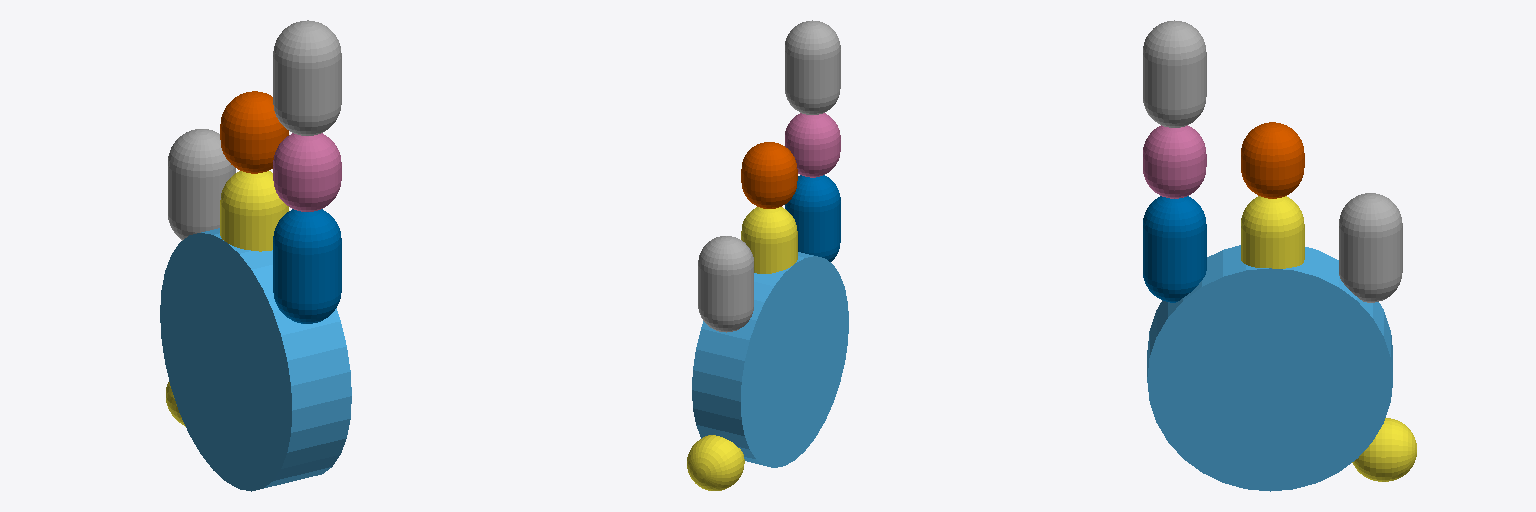
The robot description file, URDF, robot "DexterousHand":
<?xml version="1.0"?>
<robot name="DexterousHand">


    <link name="world"/>
    <joint name="world_to_palm" type="fixed">
        <parent link="world"/>
        <child link="palm"/>
        <origin xyz="0 0 0" rpy="0 0 0"/>
    </joint>
    <link name="palm">
        <inertial>
            <origin xyz="0 0 0.057" rpy="0 0 0"/>
            <mass value="0.30212892864"/>
            <inertia ixx="0.00049080844457568" ixy="0.0" ixz="0.0" iyy="0.00026746366246427523" iyz="0.0" izz="0.00026746366246427523"/>
        </inertial>
        <visual>
            <origin xyz="0 0 0.057" rpy="1.5708 0 1.5708"/>
            <geometry>
                <cylinder radius="0.057" length="0.0296"/>
            </geometry>
            <material name="default"/>
        </visual>
        <collision>
            <origin xyz="0 0 0.057" rpy="1.5708 0 1.5708"/>
            <geometry>
                <cylinder radius="0.057" length="0.0296"/>
            </geometry>
        </collision>
    </link>

    
    <joint name="thumb_joint1" type="revolute">
        <parent link="palm"/>
        <child link="thumb_base"/>
        <origin xyz="0.0029 0.0368 0.0157" rpy="-1.5708 -1.5708 0.0"/>
        <axis xyz="-1 0 0"/>
        <limit lower="-0.349" upper="2.094" effort="1.0" velocity="1.0"/>
    </joint>

    <link name="thumb_base"></link>

    <joint name="thumb_joint2" type="revolute">
        <parent link="thumb_base"/>
        <child link="thumb_proximal"/>
        <origin xyz="0.0 0.0 0.0" rpy="0.0 0.0 0.0"/>
        <axis xyz="0 0 1"/>
        <limit lower="-0.47" upper="2.443" effort="1.0" velocity="1.0"/>
    </joint>

    <link name="thumb_proximal">
        <inertial>
            <origin xyz="0 0 0.01565" rpy="0 0 0"/>
            <mass value="0.021538658803200002"/>
            <inertia ixx="2.9378910096388167e-06" ixy="0.0" ixz="0.0" 
            iyy="2.9378910096388167e-06" iyz="0.0" izz="2.358913912126464e-06"/>
        </inertial>
        <visual>
            <origin xyz="0 0 0.01565" rpy="0 0 0"/>
            <geometry>
                <cylinder radius="0.0148" length="0.0017000000000000001"/>
            </geometry>
            <material name="default"/>
        </visual>
        <visual>
            <origin xyz="0 0 0.0148" rpy="0 0 0"/>
            <geometry>
                <sphere radius="0.0148"/>
            </geometry>
            <material name="default"/>
        </visual>
        <visual>
            <origin xyz="0 0 0.0165" rpy="0 0 0"/>
            <geometry>
                <sphere radius="0.0148"/>
            </geometry>
            <material name="default"/>
        </visual>
        <collision>
            <origin xyz="0 0 0.01565" rpy="0 0 0"/>
            <geometry>
                <cylinder radius="0.0148" length="0.0017000000000000001"/>
            </geometry>
        </collision>
        <collision>
            <origin xyz="0 0 0.0148" rpy="0 0 0"/>
            <geometry>
                <sphere radius="0.0148"/>
            </geometry>
        </collision>
        <collision>
            <origin xyz="0 0 0.0165" rpy="0 0 0"/>
            <geometry>
                <sphere radius="0.0148"/>
            </geometry>
        </collision>
    </link>

    <joint name="thumb_joint3" type="revolute">
        <parent link="thumb_proximal"/>
        <child link="thumb_knuckle"/>
        <origin xyz="0.0 0.0 0.0" rpy="0.0 0.0 0.0"/>
        <axis xyz="1 0 0"/>
        <limit lower="0.0" upper="0.0" effort="1.0" velocity="1.0"/>
    </joint>

    <link name="thumb_knuckle"></link>

    <joint name="thumb_joint4" type="revolute">
        <parent link="thumb_knuckle"/>
        <child link="thumb_middle"/>
        <origin xyz="0 0 0" rpy="0 0 0"/> 
        <axis xyz="0 1 0"/>
        <limit lower="0.0" upper="0.0" effort="1.0" velocity="1.0"/>
    </joint>

    <link name="thumb_middle">
    </link>

    <joint name="thumb_joint5" type="revolute">
        <parent link="thumb_middle"/>
        <child link="thumb_distal"/>
        <origin xyz="0 0 0" rpy="0 0 0"/> 
        <axis xyz="0 1 0"/>
        <limit lower="0.0" upper="0.0" effort="1.0" velocity="1.0"/>
    </joint>

    <link name="thumb_distal">
    </link>

    
    <joint name="index_joint1" type="revolute">
        <parent link="palm"/>
        <child link="index_proximal"/>
        <origin xyz="0.0 0.0465 0.091" rpy="0.0 0.0 0.0"/>
        <axis xyz="0 1 0"/>
        <limit lower="-0.314" upper="2.23" effort="1.0" velocity="1.0"/>
    </joint>

    <link name="index_proximal">
        <inertial>
            <origin xyz="0 0 0.02655" rpy="0 0 0"/>
            <mass value="0.036540024998400006"/>
            <inertia ixx="1.058665009272394e-05" ixy="0.0" ixz="0.0" 
            iyy="1.058665009272394e-05" iyz="0.0" izz="4.001863537824769e-06"/>
        </inertial>
        <visual>
            <origin xyz="0 0 0.02655" rpy="0 0 0"/>
            <geometry>
                <cylinder radius="0.0148" length="0.0235"/>
            </geometry>
            <material name="default"/>
        </visual>
        <visual>
            <origin xyz="0 0 0.0148" rpy="0 0 0"/>
            <geometry>
                <sphere radius="0.0148"/>
            </geometry>
            <material name="default"/>
        </visual>
        <visual>
            <origin xyz="0 0 0.0383" rpy="0 0 0"/>
            <geometry>
                <sphere radius="0.0148"/>
            </geometry>
            <material name="default"/>
        </visual>
        <collision>
            <origin xyz="0 0 0.02655" rpy="0 0 0"/>
            <geometry>
                <cylinder radius="0.0148" length="0.0235"/>
            </geometry>
        </collision>
        <collision>
            <origin xyz="0 0 0.0148" rpy="0 0 0"/>
            <geometry>
                <sphere radius="0.0148"/>
            </geometry>
        </collision>
        <collision>
            <origin xyz="0 0 0.0383" rpy="0 0 0"/>
            <geometry>
                <sphere radius="0.0148"/>
            </geometry>
        </collision>
    </link>

    <joint name="index_joint2" type="revolute">
        <parent link="index_proximal"/>
        <child link="index_dummy"/>
        <origin xyz="0.0 0.0 0.038" rpy="0.0 0.0 0.0"/>
        <axis xyz="0 1 0"/>
        <limit lower="0.0" upper="0.0" effort="1.0" velocity="1.0"/>
    </joint>

    <link name="index_dummy"></link>

    <joint name="index_joint3" type="revolute">
        <parent link="index_dummy"/>
        <child link="index_middle"/>
        <origin xyz="0 0 0.015100000000000002" rpy="0 0 0"/>
        <axis xyz="0 1 0"/>
        <limit lower="0.0" upper="0.0" effort="1.0" velocity="1.0"/>
    </joint>

    <link name="index_middle">
    </link>

    <joint name="index_joint4" type="revolute">
        <parent link="index_middle"/>
        <child link="index_distal"/>
        <origin xyz="0 0 0" rpy="0 0 0"/> 
        <axis xyz="0 1 0"/>
        <limit lower="0.0" upper="0.0" effort="1.0" velocity="1.0"/>
    </joint>

    <link name="index_distal">
    </link>

    
    <joint name="middle_joint1" type="revolute">
        <parent link="palm"/>
        <child link="middle_proximal"/>
        <origin xyz="0.0 0.0011 0.091" rpy="0.0 0.0 0.0"/>
        <axis xyz="0 1 0"/>
        <limit lower="-0.314" upper="2.23" effort="1.0" velocity="1.0"/>
    </joint>

    <link name="middle_proximal">
        <inertial>
            <origin xyz="0 0 0.02655" rpy="0 0 0"/>
            <mass value="0.036540024998400006"/>
            <inertia ixx="1.058665009272394e-05" ixy="0.0" ixz="0.0" 
            iyy="1.058665009272394e-05" iyz="0.0" izz="4.001863537824769e-06"/>
        </inertial>
        <visual>
            <origin xyz="0 0 0.02655" rpy="0 0 0"/>
            <geometry>
                <cylinder radius="0.0148" length="0.0235"/>
            </geometry>
            <material name="default"/>
        </visual>
        <visual>
            <origin xyz="0 0 0.0148" rpy="0 0 0"/>
            <geometry>
                <sphere radius="0.0148"/>
            </geometry>
            <material name="default"/>
        </visual>
        <visual>
            <origin xyz="0 0 0.0383" rpy="0 0 0"/>
            <geometry>
                <sphere radius="0.0148"/>
            </geometry>
            <material name="default"/>
        </visual>
        <collision>
            <origin xyz="0 0 0.02655" rpy="0 0 0"/>
            <geometry>
                <cylinder radius="0.0148" length="0.0235"/>
            </geometry>
        </collision>
        <collision>
            <origin xyz="0 0 0.0148" rpy="0 0 0"/>
            <geometry>
                <sphere radius="0.0148"/>
            </geometry>
        </collision>
        <collision>
            <origin xyz="0 0 0.0383" rpy="0 0 0"/>
            <geometry>
                <sphere radius="0.0148"/>
            </geometry>
        </collision>
    </link>

    <joint name="middle_joint2" type="revolute">
        <parent link="middle_proximal"/>
        <child link="middle_dummy"/>
        <origin xyz="0.0 0.0 0.038" rpy="0.0 0.0 0.0"/>
        <axis xyz="1 0 0"/>
        <limit lower="-1.047" upper="1.047" effort="1.0" velocity="1.0"/>
    </joint>

    <link name="middle_dummy"></link>

    <joint name="middle_joint3" type="revolute">
        <parent link="middle_dummy"/>
        <child link="middle_middle"/>
        <origin xyz="0 0 0.015100000000000002" rpy="0 0 0"/>
        <axis xyz="0 1 0"/>
        <limit lower="-0.506" upper="1.885" effort="1.0" velocity="1.0"/>
    </joint>

    <link name="middle_middle">
        <inertial>
            <origin xyz="0 0 0.01805" rpy="0 0 0"/>
            <mass value="0.0248417119104"/>
            <inertia ixx="4.058162759109537e-06" ixy="0.0" ixz="0.0" 
            iyy="4.058162759109537e-06" iyz="0.0" izz="2.7206642884270085e-06"/>
        </inertial>
        <visual>
            <origin xyz="0 0 0.01805" rpy="0 0 0"/>
            <geometry>
                <cylinder radius="0.0148" length="0.006499999999999999"/>
            </geometry>
            <material name="default"/>
        </visual>
        <visual>
            <origin xyz="0 0 0.0148" rpy="0 0 0"/>
            <geometry>
                <sphere radius="0.0148"/>
            </geometry>
            <material name="default"/>
        </visual>
        <visual>
            <origin xyz="0 0 0.0213" rpy="0 0 0"/>
            <geometry>
                <sphere radius="0.0148"/>
            </geometry>
            <material name="default"/>
        </visual>
        <collision>
            <origin xyz="0 0 0.01805" rpy="0 0 0"/>
            <geometry>
                <cylinder radius="0.0148" length="0.006499999999999999"/>
            </geometry>
        </collision>
        <collision>
            <origin xyz="0 0 0.0148" rpy="0 0 0"/>
            <geometry>
                <sphere radius="0.0148"/>
            </geometry>
        </collision>
        <collision>
            <origin xyz="0 0 0.0213" rpy="0 0 0"/>
            <geometry>
                <sphere radius="0.0148"/>
            </geometry>
        </collision>
    </link>

    <joint name="middle_joint4" type="revolute">
        <parent link="middle_middle"/>
        <child link="middle_distal"/>
        <origin xyz="0 0 0.0361" rpy="0 0 0"/> 
        <axis xyz="0 1 0"/>
        <limit lower="0.0" upper="0.0" effort="1.0" velocity="1.0"/>
    </joint>

    <link name="middle_distal">
    </link>

    
    <joint name="ring_joint1" type="revolute">
        <parent link="palm"/>
        <child link="ring_proximal"/>
        <origin xyz="0.0 0.0 0.0" rpy="0.0 0.0 0.0"/>
        <axis xyz="1 0 0"/>
        <limit lower="0.0" upper="0.0" effort="1.0" velocity="1.0"/>
    </joint>

    <link name="ring_proximal">
    </link>

    <joint name="ring_joint2" type="revolute">
        <parent link="ring_proximal"/>
        <child link="ring_dummy"/>
        <origin xyz="0.0 0.0 0.0" rpy="0.0 0.0 0.0"/>
        <axis xyz="0 1 0"/>
        <limit lower="0.0" upper="0.0" effort="1.0" velocity="1.0"/>
    </joint>

    <link name="ring_dummy"></link>

    <joint name="ring_joint3" type="revolute">
        <parent link="ring_dummy"/>
        <child link="ring_middle"/>
        <origin xyz="0 0 0" rpy="0 0 0"/>
        <axis xyz="0 1 0"/>
        <limit lower="0.0" upper="0.0" effort="1.0" velocity="1.0"/>
    </joint>

    <link name="ring_middle">
    </link>

    <joint name="ring_joint4" type="revolute">
        <parent link="ring_middle"/>
        <child link="ring_distal"/>
        <origin xyz="0 0 0" rpy="0 0 0"/> 
        <axis xyz="0 1 0"/>
        <limit lower="0.0" upper="0.0" effort="1.0" velocity="1.0"/>
    </joint>

    <link name="ring_distal">
    </link>

    
    <joint name="little_joint0" type="revolute">
        <parent link="palm"/>
        <child link="little_base"/>
        <origin xyz="0.0 0.0 0.0" rpy="0.0 0.0 0.0"/>
        <axis xyz="0 1 0"/>
        <limit lower="0.0" upper="0.0" effort="1.0" velocity="1.0"/>
    </joint>

    <link name="little_base"></link>

    <joint name="little_joint1" type="revolute">
        <parent link="little_base"/>
        <child link="little_proximal"/>
        <origin xyz="0.0 -0.0443 0.091" rpy="-0.0 -0.0 -0.0"/>
        <axis xyz="0 1 0"/>
        <limit lower="-0.314" upper="2.23" effort="1.0" velocity="1.0"/>
    </joint>

    <link name="little_proximal">
        <inertial>
            <origin xyz="0 0 0.02655" rpy="0 0 0"/>
            <mass value="0.036540024998400006"/>
            <inertia ixx="1.058665009272394e-05" ixy="0.0" ixz="0.0" 
            iyy="1.058665009272394e-05" iyz="0.0" izz="4.001863537824769e-06"/>
        </inertial>
        <visual>
            <origin xyz="0 0 0.02655" rpy="0 0 0"/>
            <geometry>
                <cylinder radius="0.0148" length="0.0235"/>
            </geometry>
            <material name="default"/>
        </visual>
        <visual>
            <origin xyz="0 0 0.0148" rpy="0 0 0"/>
            <geometry>
                <sphere radius="0.0148"/>
            </geometry>
            <material name="default"/>
        </visual>
        <visual>
            <origin xyz="0 0 0.0383" rpy="0 0 0"/>
            <geometry>
                <sphere radius="0.0148"/>
            </geometry>
            <material name="default"/>
        </visual>
        <collision>
            <origin xyz="0 0 0.02655" rpy="0 0 0"/>
            <geometry>
                <cylinder radius="0.0148" length="0.0235"/>
            </geometry>
        </collision>
        <collision>
            <origin xyz="0 0 0.0148" rpy="0 0 0"/>
            <geometry>
                <sphere radius="0.0148"/>
            </geometry>
        </collision>
        <collision>
            <origin xyz="0 0 0.0383" rpy="0 0 0"/>
            <geometry>
                <sphere radius="0.0148"/>
            </geometry>
        </collision>
    </link>

    <joint name="little_joint2" type="revolute">
        <parent link="little_proximal"/>
        <child link="little_dummy"/>
        <origin xyz="0.0 0.0 0.038" rpy="0.0 0.0 0.0"/>
        <axis xyz="1 0 0"/>
        <limit lower="-1.047" upper="1.047" effort="1.0" velocity="1.0"/>
    </joint>

    <link name="little_dummy"></link>

    <joint name="little_joint3" type="revolute">
        <parent link="little_dummy"/>
        <child link="little_middle"/>
        <origin xyz="0 0 0.015100000000000002" rpy="0 0 0"/>
        <axis xyz="0 1 0"/>
        <limit lower="-0.506" upper="1.885" effort="1.0" velocity="1.0"/>
    </joint>

    <link name="little_middle">
        <inertial>
            <origin xyz="0 0 0.01805" rpy="0 0 0"/>
            <mass value="0.0248417119104"/>
            <inertia ixx="4.058162759109537e-06" ixy="0.0" ixz="0.0" 
            iyy="4.058162759109537e-06" iyz="0.0" izz="2.7206642884270085e-06"/>
        </inertial>
        <visual>
            <origin xyz="0 0 0.01805" rpy="0 0 0"/>
            <geometry>
                <cylinder radius="0.0148" length="0.006499999999999999"/>
            </geometry>
            <material name="default"/>
        </visual>
        <visual>
            <origin xyz="0 0 0.0148" rpy="0 0 0"/>
            <geometry>
                <sphere radius="0.0148"/>
            </geometry>
            <material name="default"/>
        </visual>
        <visual>
            <origin xyz="0 0 0.0213" rpy="0 0 0"/>
            <geometry>
                <sphere radius="0.0148"/>
            </geometry>
            <material name="default"/>
        </visual>
        <collision>
            <origin xyz="0 0 0.01805" rpy="0 0 0"/>
            <geometry>
                <cylinder radius="0.0148" length="0.006499999999999999"/>
            </geometry>
        </collision>
        <collision>
            <origin xyz="0 0 0.0148" rpy="0 0 0"/>
            <geometry>
                <sphere radius="0.0148"/>
            </geometry>
        </collision>
        <collision>
            <origin xyz="0 0 0.0213" rpy="0 0 0"/>
            <geometry>
                <sphere radius="0.0148"/>
            </geometry>
        </collision>
    </link>

    <joint name="little_joint4" type="revolute">
        <parent link="little_middle"/>
        <child link="little_distal"/>
        <origin xyz="0 0 0.0361" rpy="0 0 0"/>
        <axis xyz="0 1 0"/>
        <limit lower="-0.366" upper="2.042" effort="1.0" velocity="1.0"/>
    </joint>

    <link name="little_distal">
        <inertial>
            <origin xyz="0 0 0.026" rpy="0 0 0"/>
            <mass value="0.035783075328"/>
            <inertia ixx="1.002260084553728e-05" ixy="0.0" ixz="0.0" 
            iyy="1.002260084553728e-05" iyz="0.0" izz="3.91896240992256e-06"/>
        </inertial>
        <visual>
            <origin xyz="0 0 0.026" rpy="0 0 0"/>
            <geometry>
                <cylinder radius="0.0148" length="0.022399999999999996"/>
            </geometry>
            <material name="default"/>
        </visual>
        <visual>
            <origin xyz="0 0 0.0148" rpy="0 0 0"/>
            <geometry>
                <sphere radius="0.0148"/>
            </geometry>
            <material name="default"/>
        </visual>
        <visual>
            <origin xyz="0 0 0.0372" rpy="0 0 0"/>
            <geometry>
                <sphere radius="0.0148"/>
            </geometry>
            <material name="default"/>
        </visual>
        <collision>
            <origin xyz="0 0 0.026" rpy="0 0 0"/>
            <geometry>
                <cylinder radius="0.0148" length="0.022399999999999996"/>
            </geometry>
        </collision>
        <collision>
            <origin xyz="0 0 0.0148" rpy="0 0 0"/>
            <geometry>
                <sphere radius="0.0148"/>
            </geometry>
        </collision>
        <collision>
            <origin xyz="0 0 0.0372" rpy="0 0 0"/>
            <geometry>
                <sphere radius="0.0148"/>
            </geometry>
        </collision>
    </link>

</robot>

--- Facts derived from the render (not from the file) ---
The picture shows the robot from 3 angles, left to right: view 1: azimuth 30°, elevation 25°; view 2: azimuth 150°, elevation 25°; view 3: azimuth 270°, elevation 25°; orthographic projection.
Model DexterousHand with 24 links and 23 joints (22 revolute, 1 fixed), rooted at world, posed all joints at 0.
Visible links, largest first — view 1: palm, little_proximal, little_distal, index_proximal, little_middle, middle_proximal, middle_middle; view 2: palm, index_proximal, little_distal, little_proximal, middle_middle, middle_proximal, little_middle, thumb_proximal; view 3: palm, index_proximal, little_distal, little_proximal, middle_proximal, middle_middle, little_middle, thumb_proximal.
Link boxes in pixels (x1,y1,x2,y2): palm: (160, 228, 351, 491); little_proximal: (273, 209, 341, 323); little_distal: (273, 20, 341, 135); index_proximal: (168, 129, 235, 240); little_middle: (273, 133, 341, 211); middle_proximal: (220, 171, 288, 251); middle_middle: (220, 91, 288, 173); palm: (692, 252, 848, 467); index_proximal: (698, 236, 753, 332); little_distal: (785, 20, 840, 114); little_proximal: (785, 175, 840, 261); middle_middle: (741, 142, 797, 208); middle_proximal: (741, 207, 797, 273); little_middle: (785, 113, 840, 177); thumb_proximal: (687, 435, 744, 490); palm: (1147, 245, 1392, 491); index_proximal: (1339, 193, 1402, 302); little_distal: (1143, 20, 1206, 127); little_proximal: (1143, 196, 1206, 302); middle_proximal: (1241, 196, 1304, 268); middle_middle: (1241, 122, 1304, 198); little_middle: (1143, 125, 1206, 198); thumb_proximal: (1352, 418, 1416, 481).
Size in the robot's own frame: 0.0325 by 0.1272 by 0.2322 metres.
Geometry: primitives only (box / cylinder / sphere), no mesh files.
